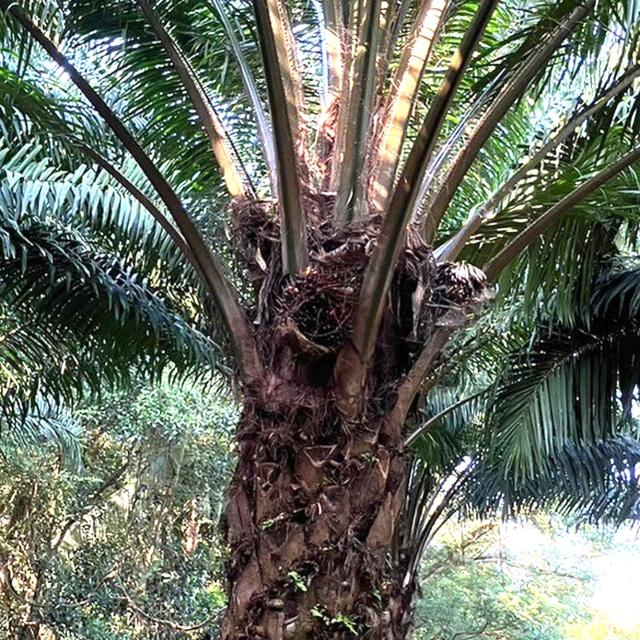ripe: (285, 272, 356, 342)
